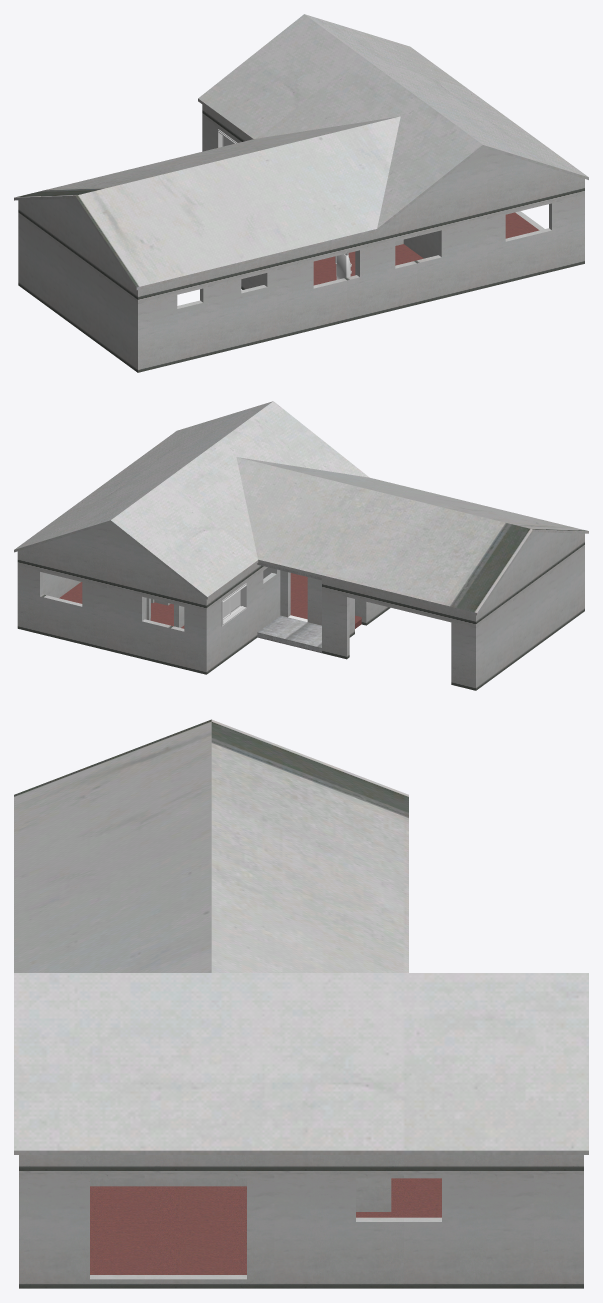
The model's file is houseasset.glb.
The picture shows the model from 3 angles, top to bottom: view 1: azimuth 30°, elevation 25°; view 2: azimuth 150°, elevation 25°; view 3: azimuth 270°, elevation 25°; orthographic projection. The views are drawn at different scales.
Visible parts, largest first — view 1: entity_0_geometry; view 2: entity_0_geometry, Cube.008; view 3: entity_0_geometry.
Part boxes in pixels (<box>): entity_0_geometry: <box>14,14,588,372</box>; entity_0_geometry: <box>14,401,588,690</box>; Cube.008: <box>221,583,246,626</box>; entity_0_geometry: <box>14,719,588,1288</box>.
Bounding box in the file's own units: 20.74 × 6.38 × 14.19.
Materials: 10 (8 with a texture image).
